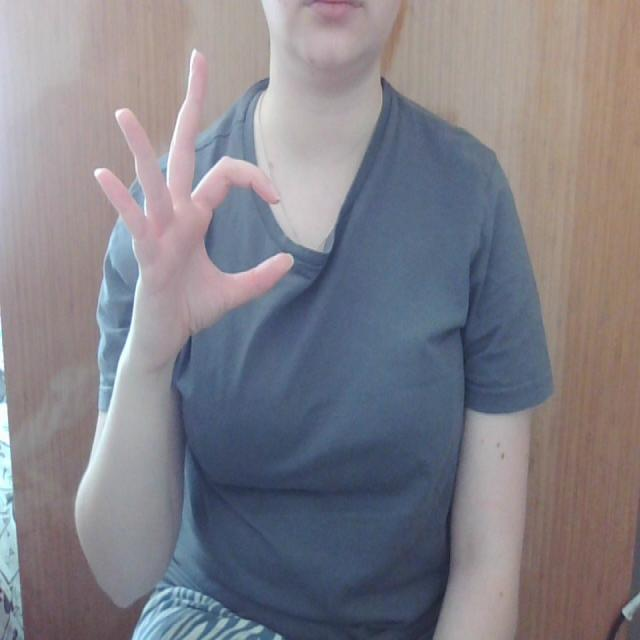Tuvalet: (74, 45, 304, 367)
